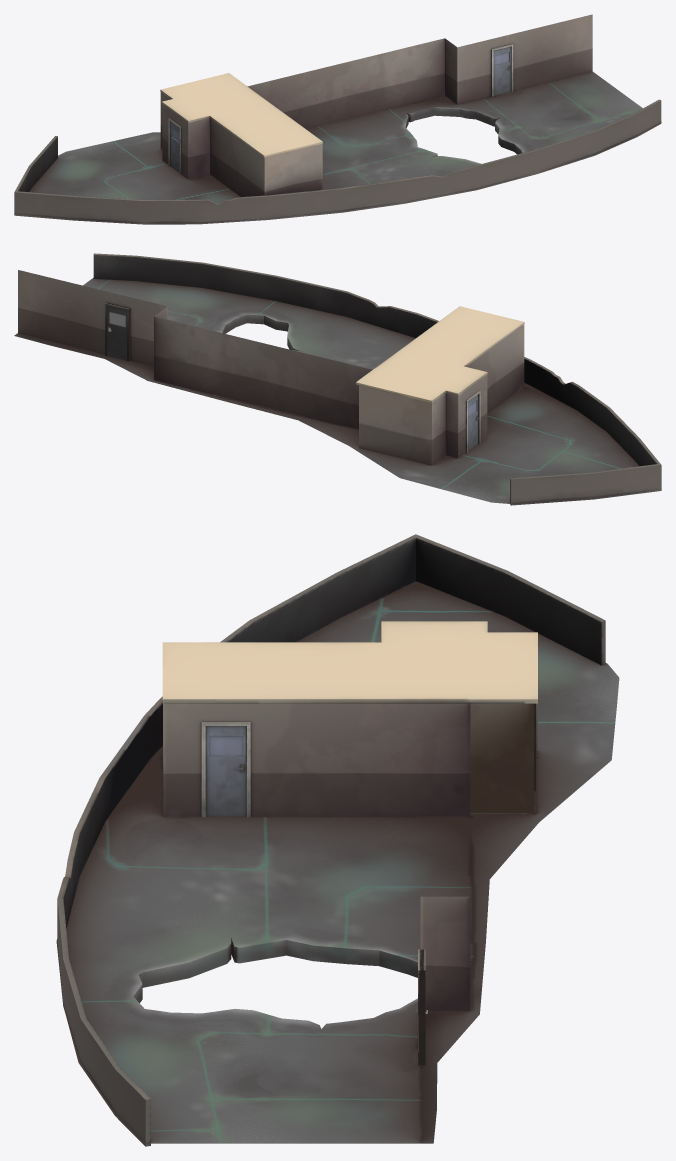
Rendered from Level+texture 1.fbx.
3 views of the same model, one above another, from view 1: azimuth 30°, elevation 25°; view 2: azimuth 150°, elevation 25°; view 3: azimuth 270°, elevation 25° (orthographic). The views are drawn at different scales.
Parts seen in each view (by area): view 1: grond, muur2, rand, Dak, deur (×2), Kozijn; view 2: muur2, grond, rand, Dak, deur (×2), Kozijn; view 3: grond, muur2, rand, Dak, muur1, deur, Kozijn (×2).
Part boxes in pixels (box(x1,y1,x2,y2)): grond: box(15, 71, 661, 223); muur2: box(160, 14, 592, 197); rand: box(14, 99, 661, 224); Dak: box(160, 73, 322, 157); deur (×2): box(170, 46, 510, 172); Kozijn: box(491, 44, 513, 96); muur2: box(18, 270, 524, 465); grond: box(14, 278, 661, 503); rand: box(93, 253, 661, 505); Dak: box(356, 306, 524, 402); deur (×2): box(107, 306, 478, 450); Kozijn: box(105, 302, 130, 361); grond: box(56, 581, 619, 1143); muur2: box(163, 703, 537, 1011); rand: box(57, 534, 605, 1146); Dak: box(162, 621, 537, 703); muur1: box(246, 703, 533, 813); deur: box(205, 726, 246, 816); Kozijn (×2): box(201, 722, 425, 1064).
Bounding box in the file's own units: 2591 × 284 × 1088.
